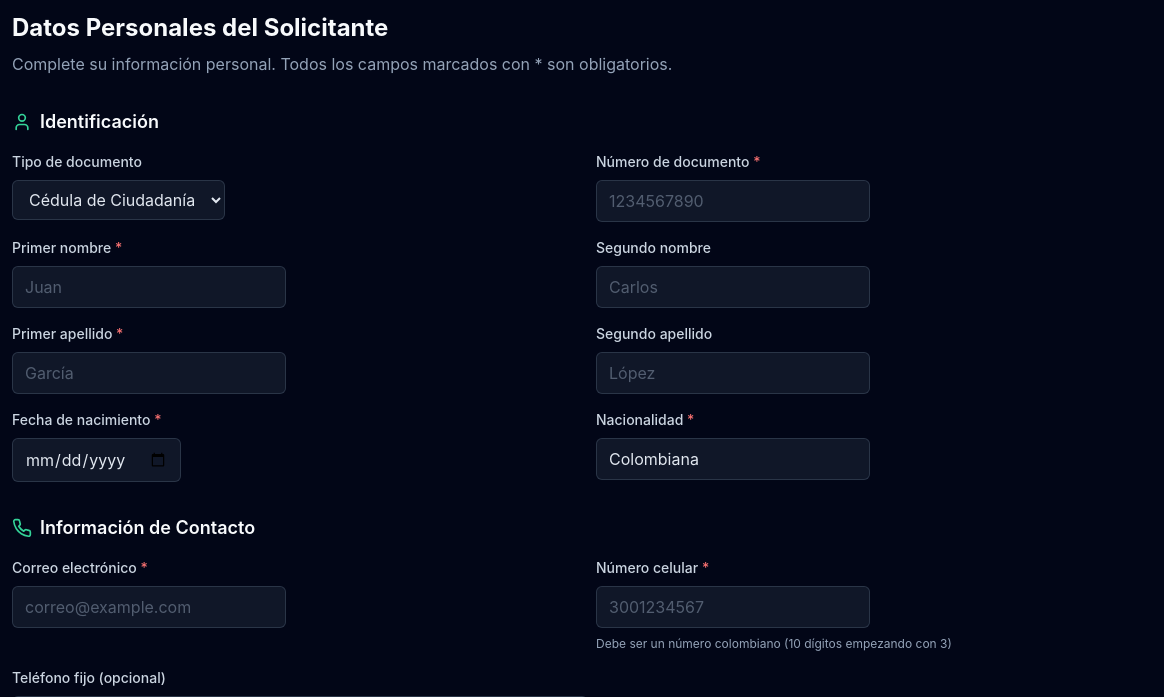
FormStep3New - Datos Personales › ❌ Validation errors › should show error for invalid celular
Type "123456" into the field labelled "Número celular *" at (733, 607), box left=596, top=586, right=870, bottom=628
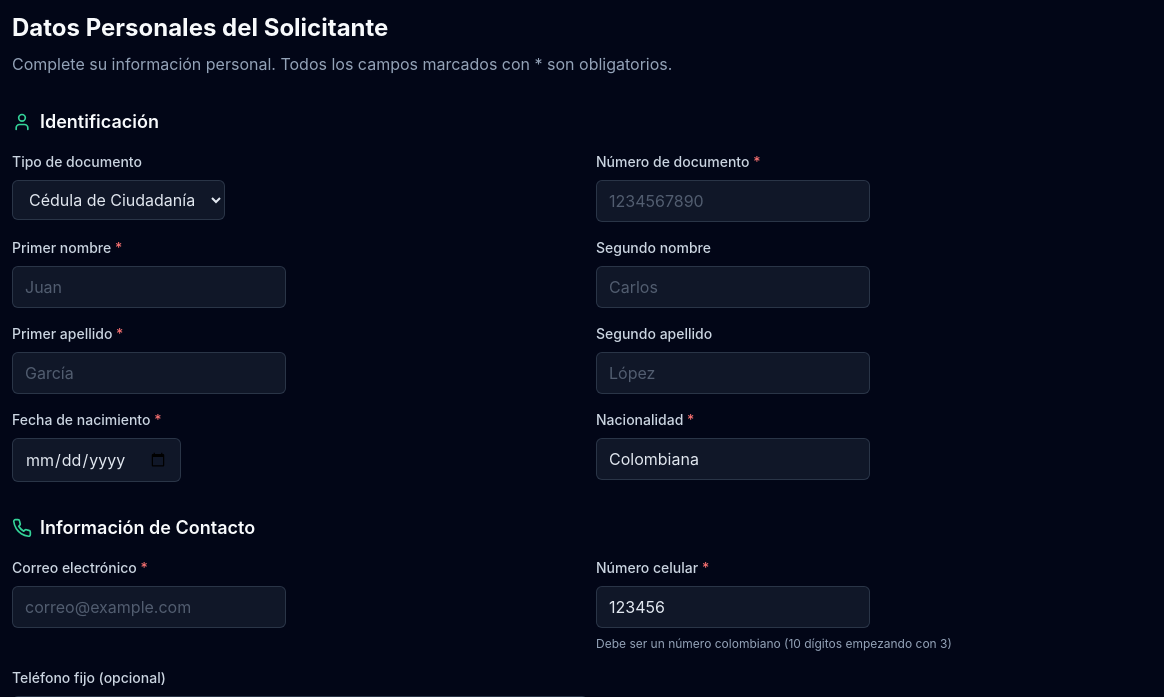
Leave the field labelled "Número celular *", box left=596, top=586, right=870, bottom=628
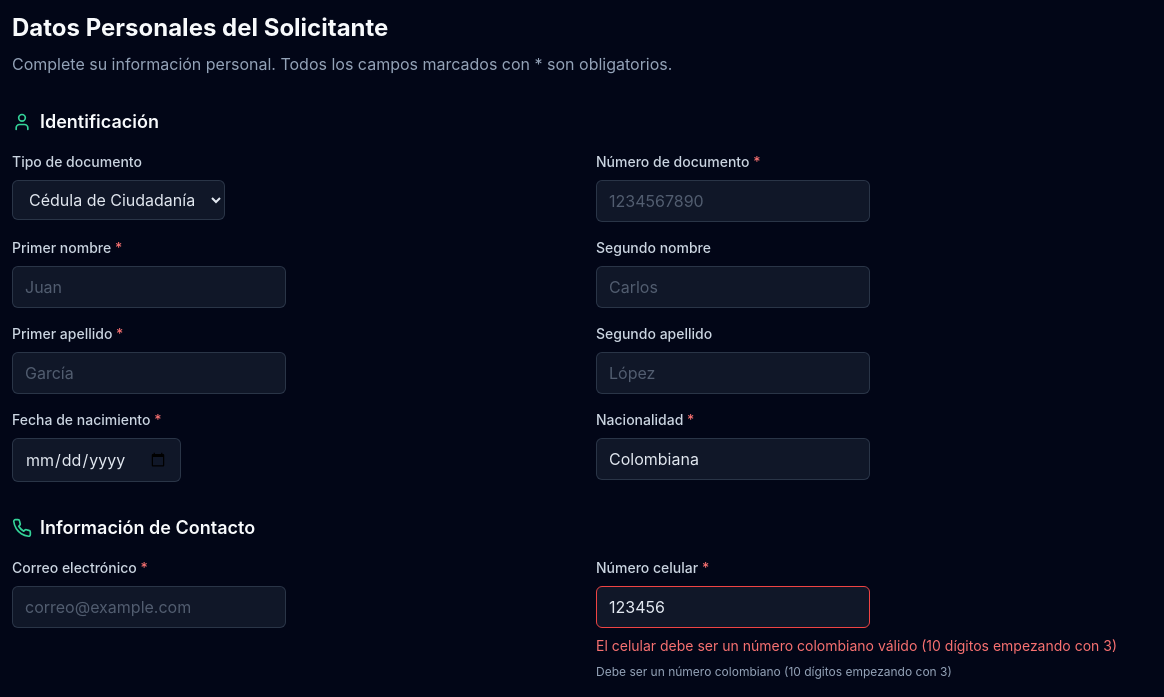
Expected: the message "El celular debe ser un número colombiano válido (10 dígitos empezando con 3)" is shown, left=596, top=636, right=1163, bottom=656
